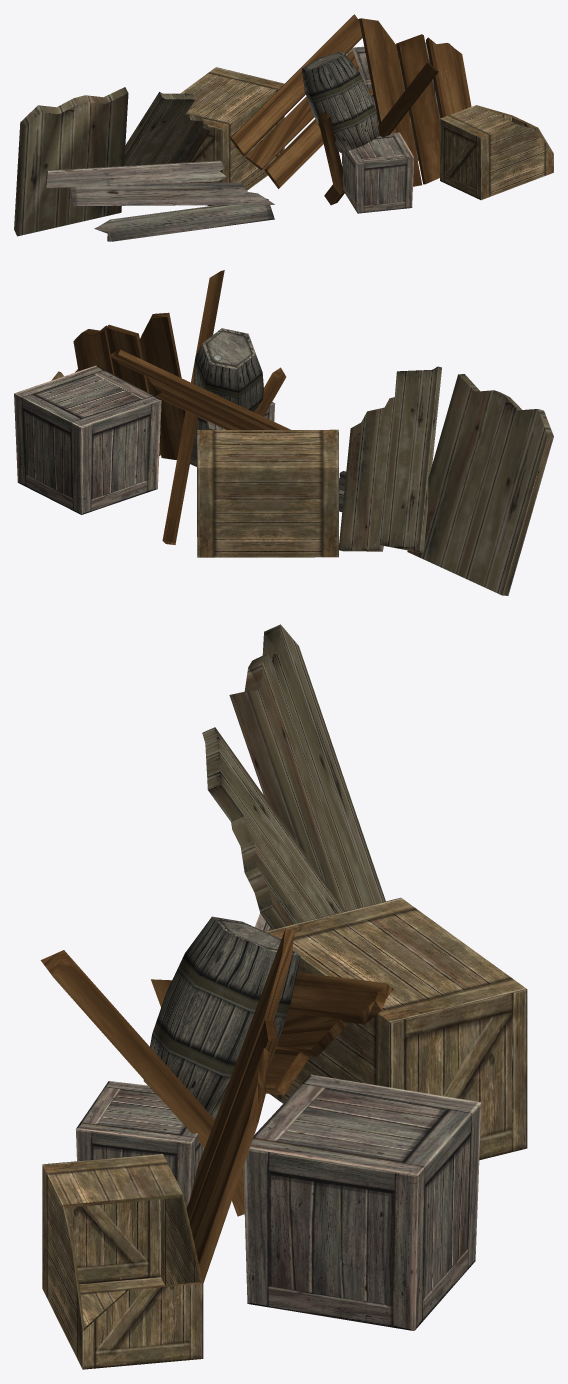
The model's file is pir_m_prp_inv_barricade02_destroyed.fbx.
The picture shows the model from 3 angles, top to bottom: view 1: azimuth 30°, elevation 25°; view 2: azimuth 150°, elevation 25°; view 3: azimuth 270°, elevation 25°; orthographic projection. The views are drawn at different scales.
Visible parts, largest first — view 1: brokenShelf_planks, CartBases, crates, broken_planks, brokenCrate, barrel, sticks; view 2: crates, CartBases, brokenShelf_planks, barrel, sticks; view 3: crates, CartBases, brokenCrate, brokenShelf_planks, barrel, sticks.
Boxes of the visible parts, x1=… form: brokenShelf_planks: x1=230, y1=14, x2=471, y2=188; CartBases: x1=14, y1=87, x2=209, y2=236; crates: x1=180, y1=42, x2=440, y2=213; broken_planks: x1=45, y1=160, x2=274, y2=241; brokenCrate: x1=440, y1=105, x2=553, y2=200; barrel: x1=302, y1=51, x2=379, y2=152; sticks: x1=318, y1=62, x2=438, y2=205; crates: x1=14, y1=365, x2=338, y2=557; CartBases: x1=339, y1=366, x2=553, y2=595; brokenShelf_planks: x1=73, y1=312, x2=290, y2=460; barrel: x1=194, y1=328, x2=263, y2=429; sticks: x1=162, y1=270, x2=286, y2=544; crates: x1=75, y1=898, x2=527, y2=1330; CartBases: x1=202, y1=624, x2=385, y2=929; brokenCrate: x1=42, y1=1153, x2=203, y2=1369; brokenShelf_planks: x1=186, y1=928, x2=393, y2=1283; barrel: x1=143, y1=916, x2=300, y2=1117; sticks: x1=40, y1=950, x2=244, y2=1216.
Bounding box in the file's own units: 3969 × 1515 × 1741.
Materials: 1 (1 with a texture image).
